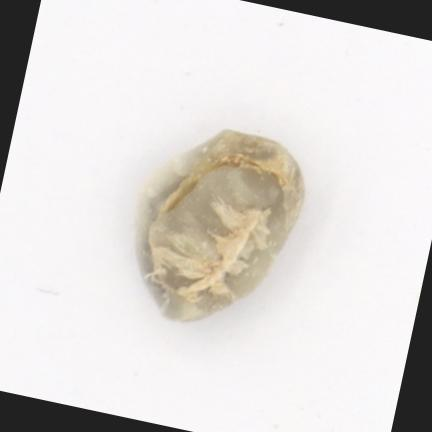cut: (138, 130, 305, 321)
